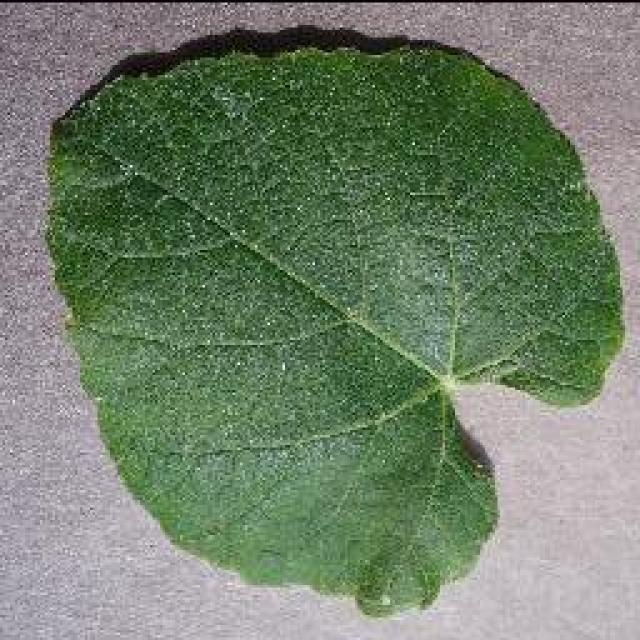Grape___healthy: (42, 37, 630, 621)
